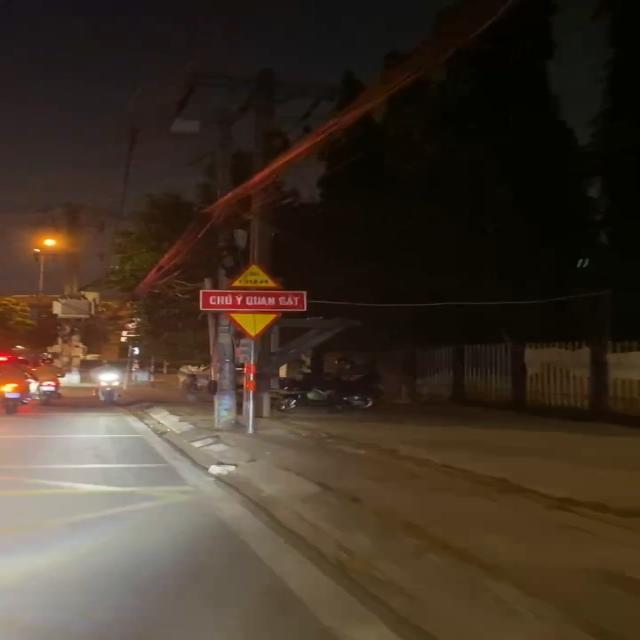208-giao-nhau-voi-duong-uu-tien: (223, 311, 283, 337)
245-di-cham: (226, 260, 282, 290)
